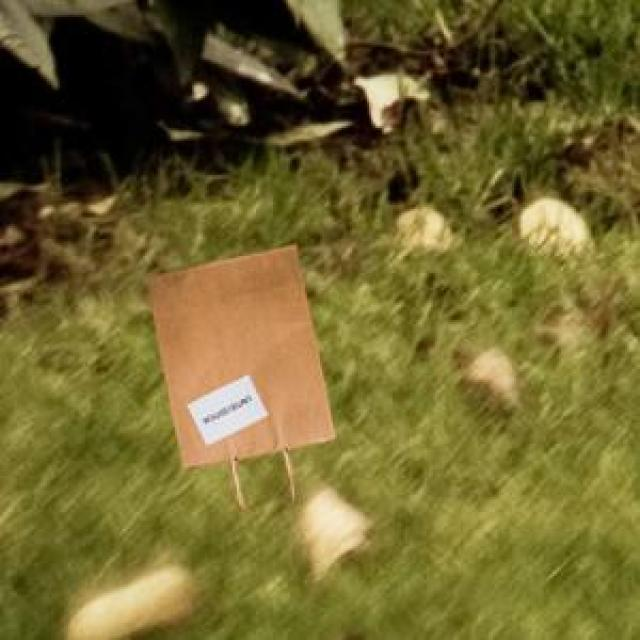paper: (145, 241, 331, 504)
